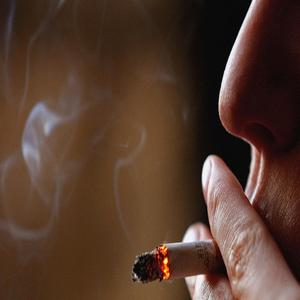cigarette: (122, 236, 230, 283)
